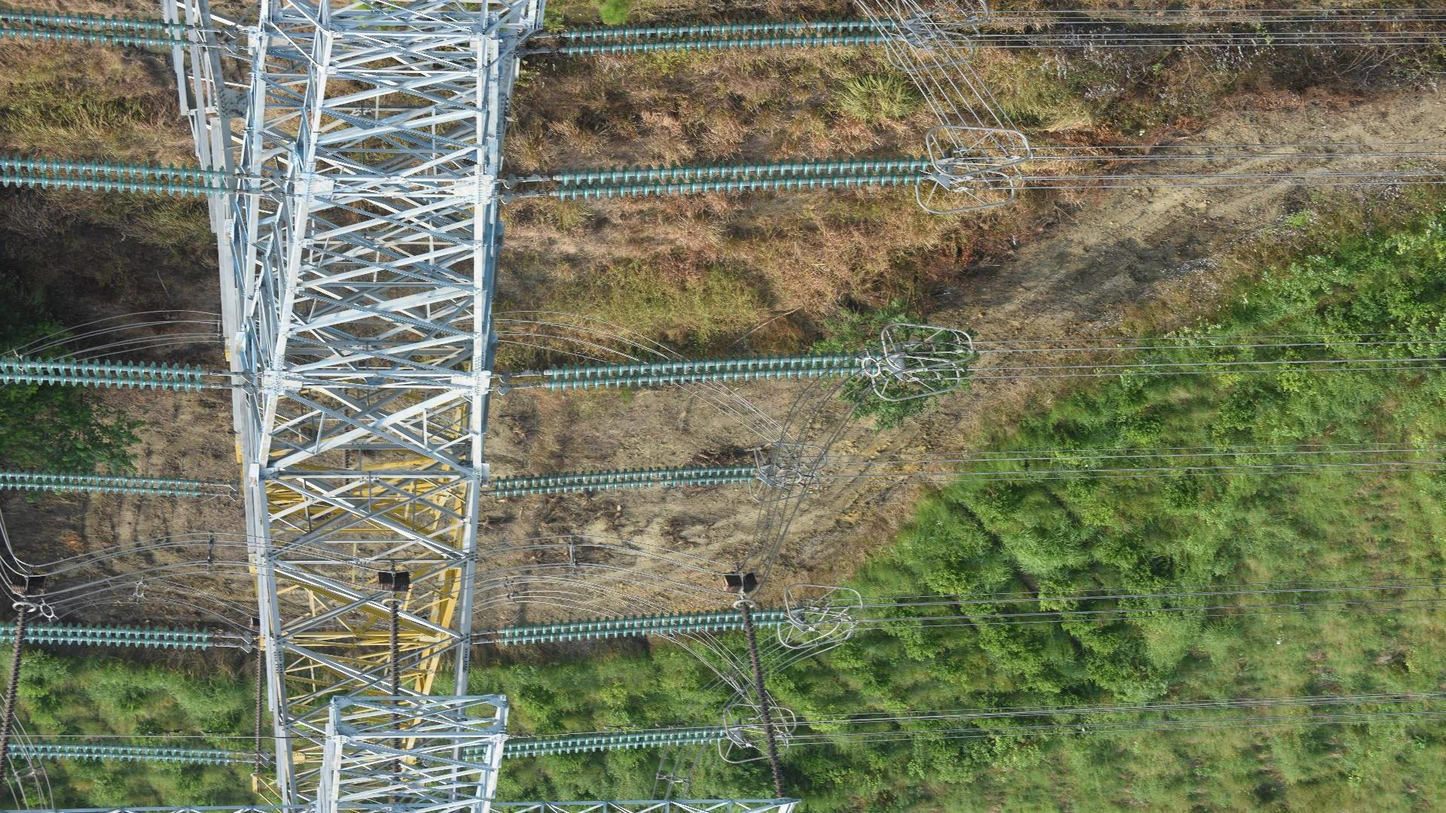insulator: (554, 153, 930, 205), (545, 346, 883, 393), (565, 14, 900, 60), (499, 603, 786, 648), (1, 148, 230, 202), (462, 723, 727, 764), (493, 461, 758, 501), (739, 603, 788, 799), (1, 4, 192, 52), (1, 352, 206, 394), (8, 736, 233, 769), (1, 619, 212, 653), (1, 466, 203, 501), (1, 605, 31, 786), (387, 601, 403, 775), (253, 649, 267, 772)
insulator_stringdrop: (791, 15, 825, 35), (644, 473, 670, 490)
